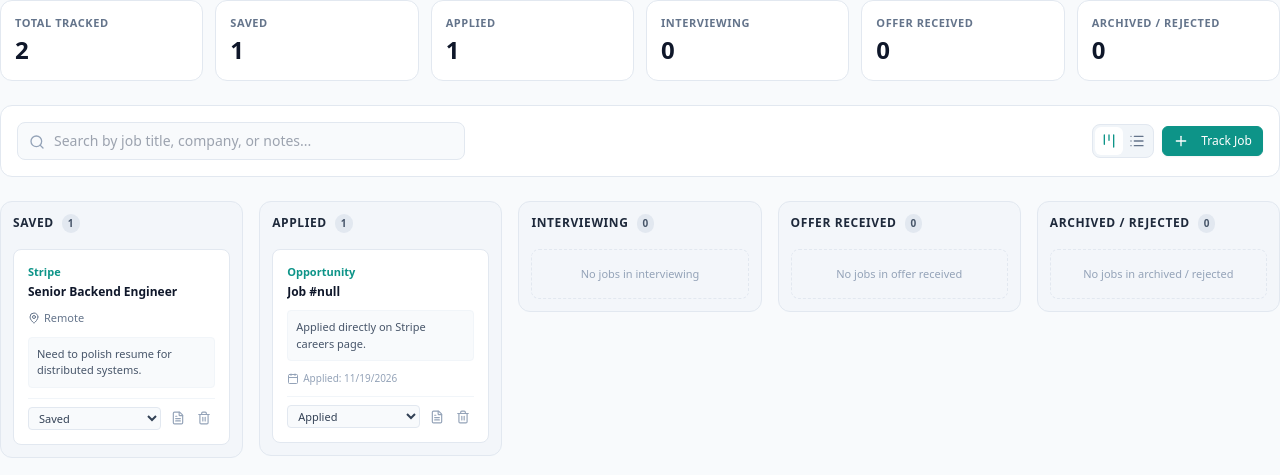
Test: ApplicationsScreen Component › switches to list view and filters applications by stage
The image size is (1280, 475).
Expected: the heading "Senior Backend Engineer" is shown, [28, 283, 177, 300]
// Click list view toggle
Step 1. Click the button with test id "view-list-btn" → x=1137, y=140, box [1123, 126, 1151, 154]
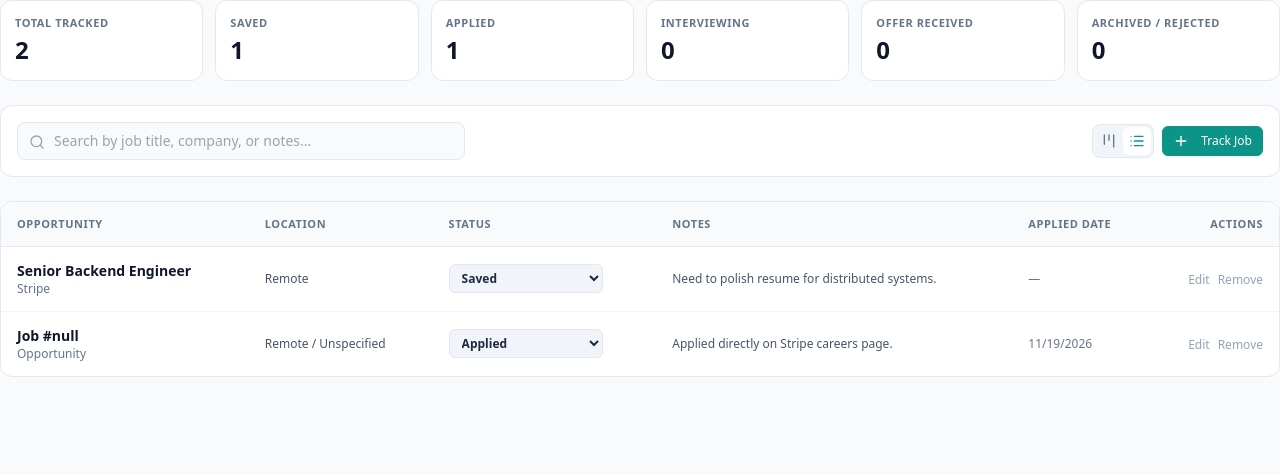
Now the column heading "Opportunity" is shown, box [1, 202, 249, 246]
Now the column heading "Status" is shown, box [433, 202, 656, 246]
